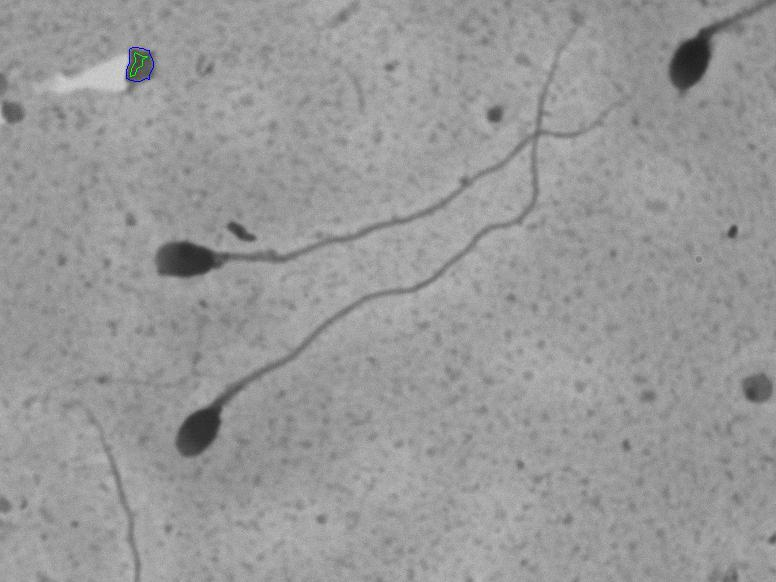Normal: (159, 22, 588, 473), (138, 82, 648, 290)
